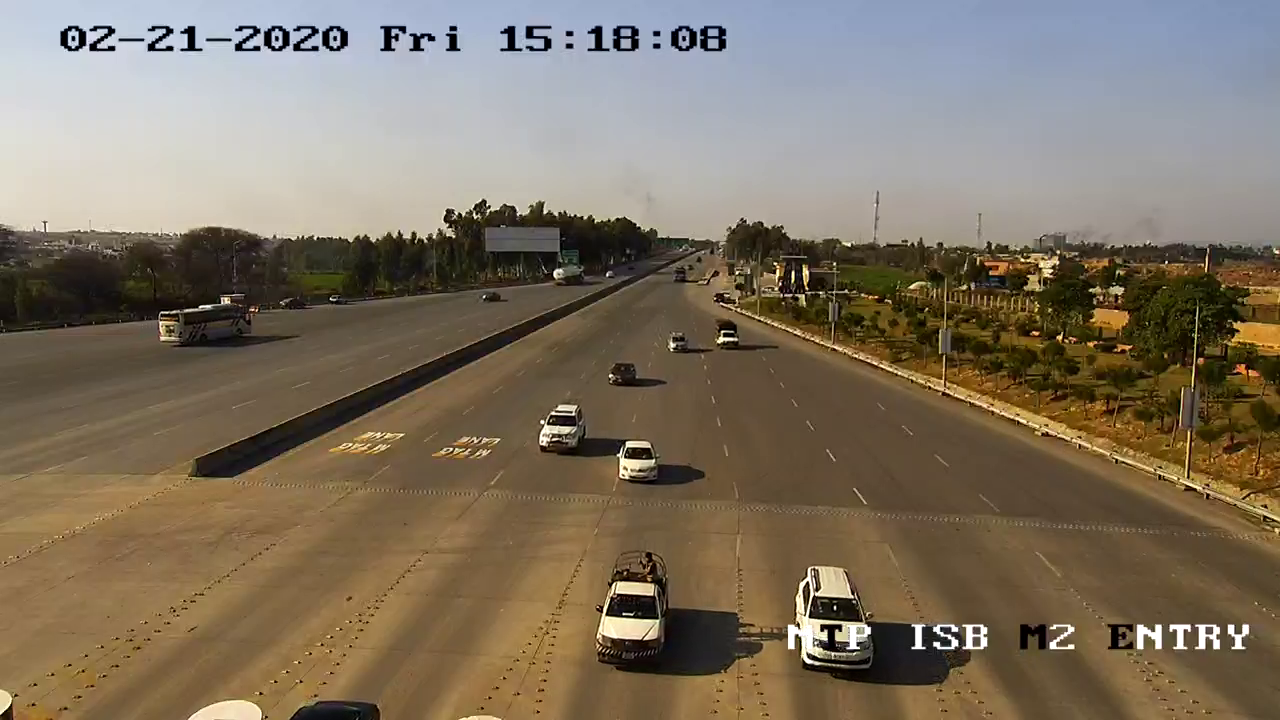f1: (534, 396, 594, 465), (611, 432, 668, 490)
f2: (583, 545, 681, 677)
